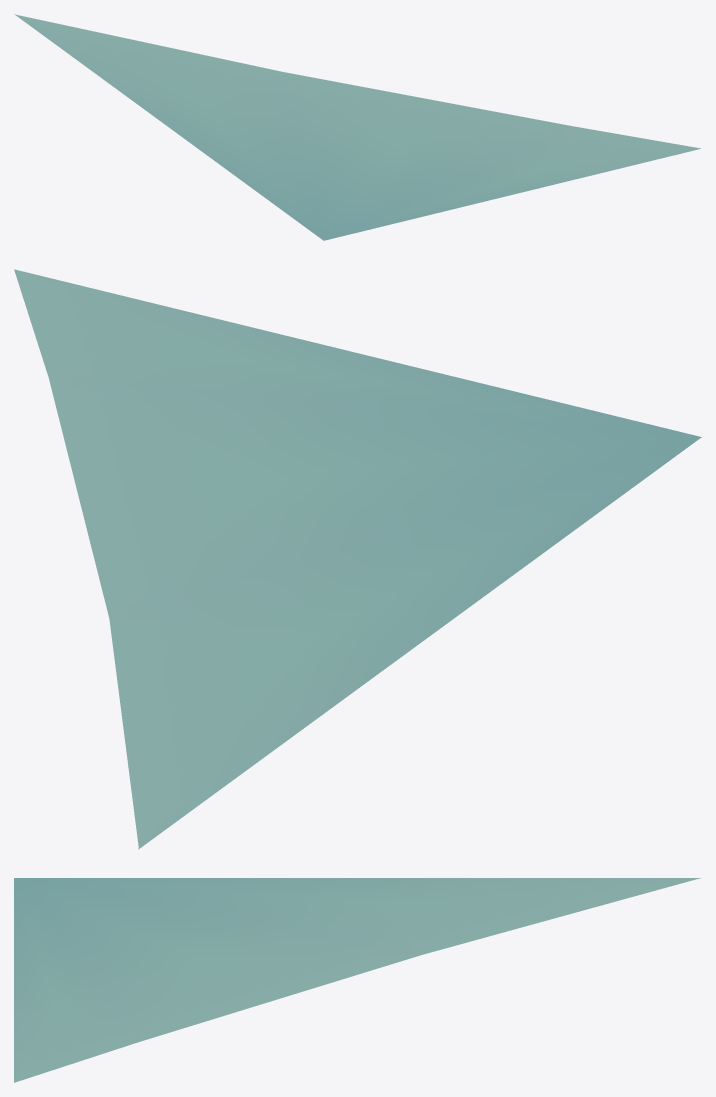
Rendered from water-15-2.glb.
3 views of the same model, one above another, from view 1: azimuth 30°, elevation 25°; view 2: azimuth 150°, elevation 25°; view 3: azimuth 270°, elevation 25° (orthographic). The views are drawn at different scales.
Bounding box in the file's own units: 5.99 × 0 × 8.5.
